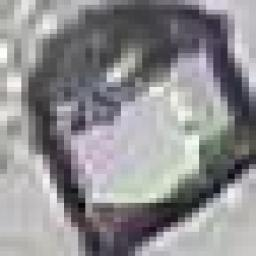crystals: (18, 4, 249, 251)
